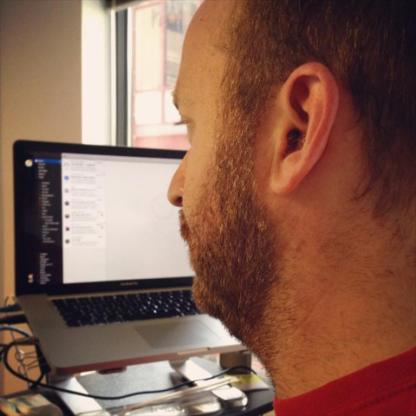board: (11, 140, 248, 370)
